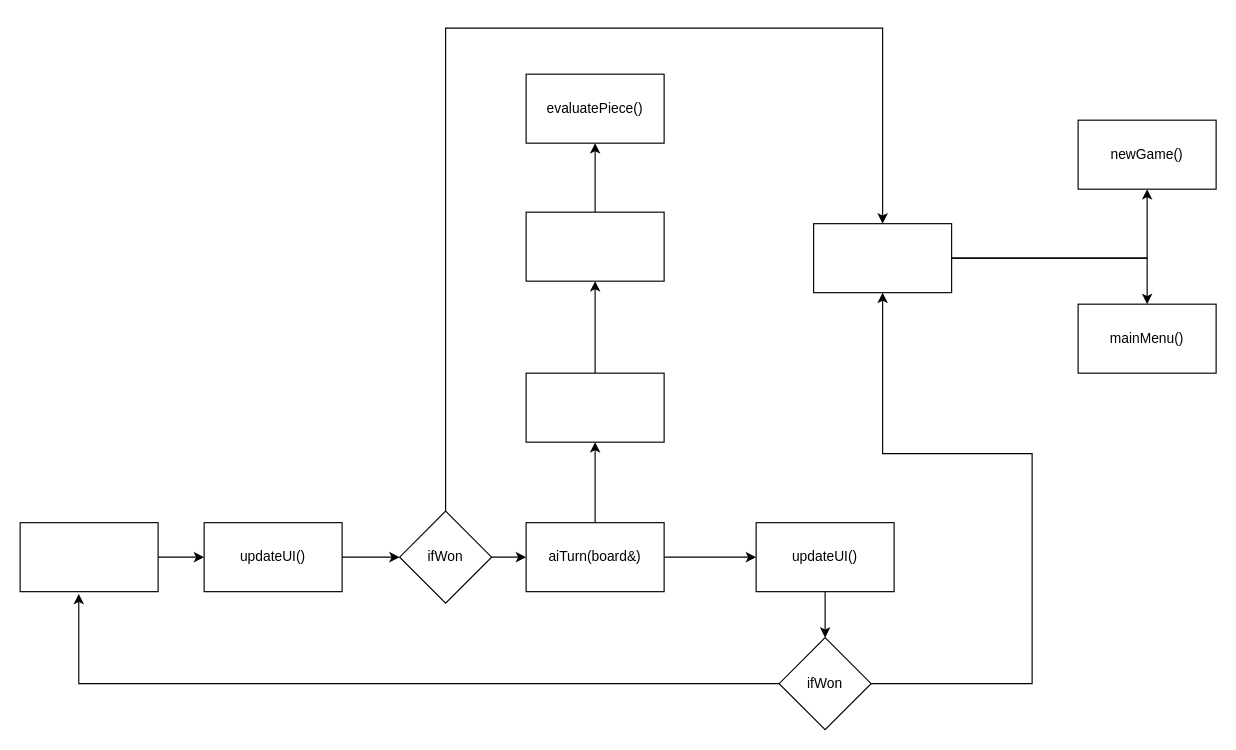
The diagram is 1236 pixels wide and 750 high, and some of its shapes have lost their labels. The shapes that lost their labels are listed below. From the top down, each one's centre as x and y in pixels, then its label:
At point 594,246: "evaluatePosition()".
At point 882,258: "won()".
At point 594,407: "minmax(board&)".
At point 88,557: "playerTurn()".
